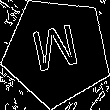M_S: (29, 22, 84, 81)
